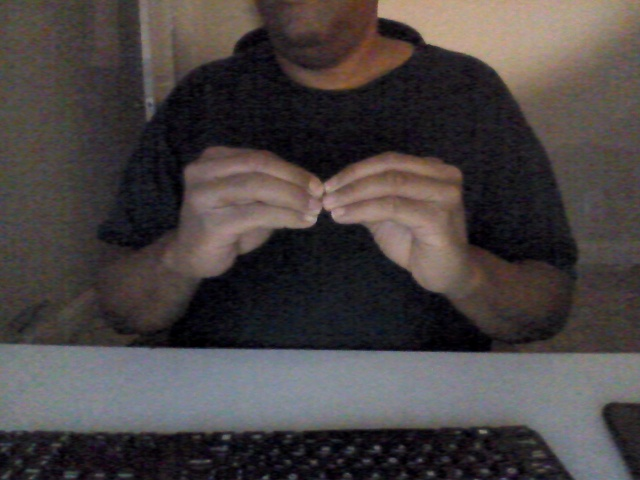more: (178, 138, 474, 295)
